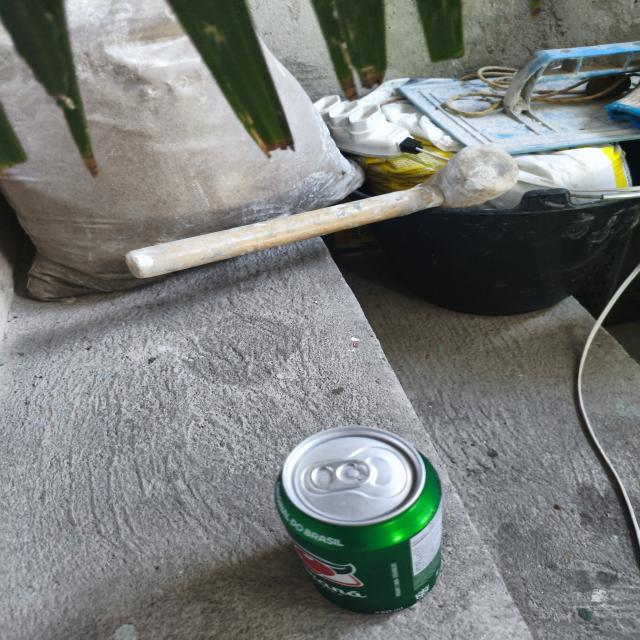Guarana: (267, 417, 452, 616)
